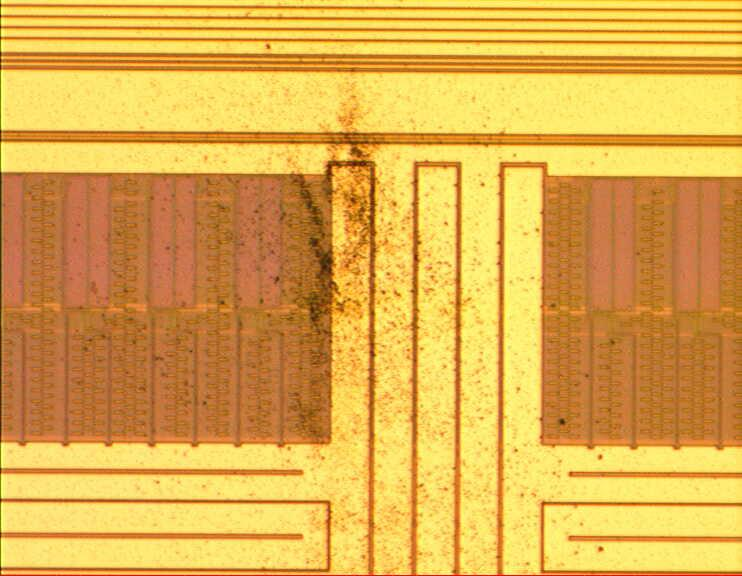PO CONTAMINATION: (94, 58, 602, 576)
